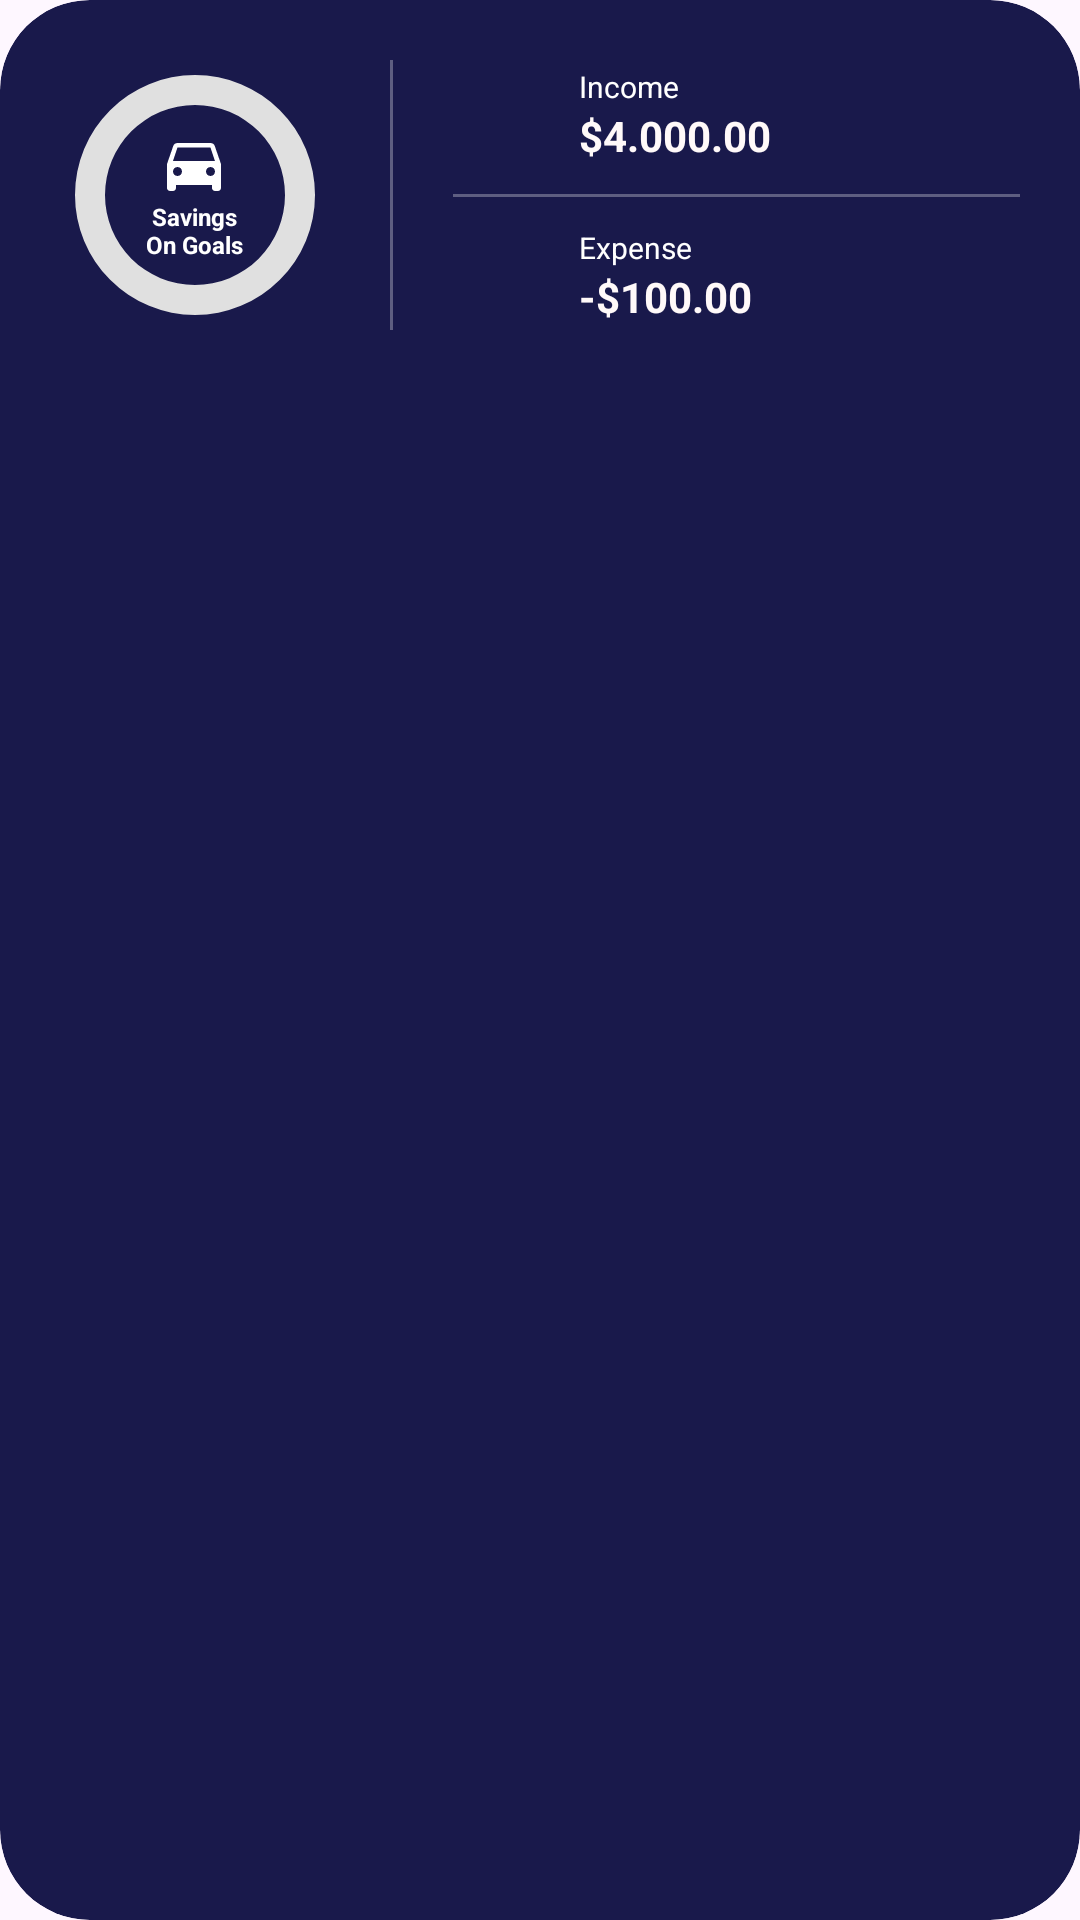

Point at icon controls on the screen. Image size 1080w x 1920h, points as point (x, y).
car: point (194, 167)
